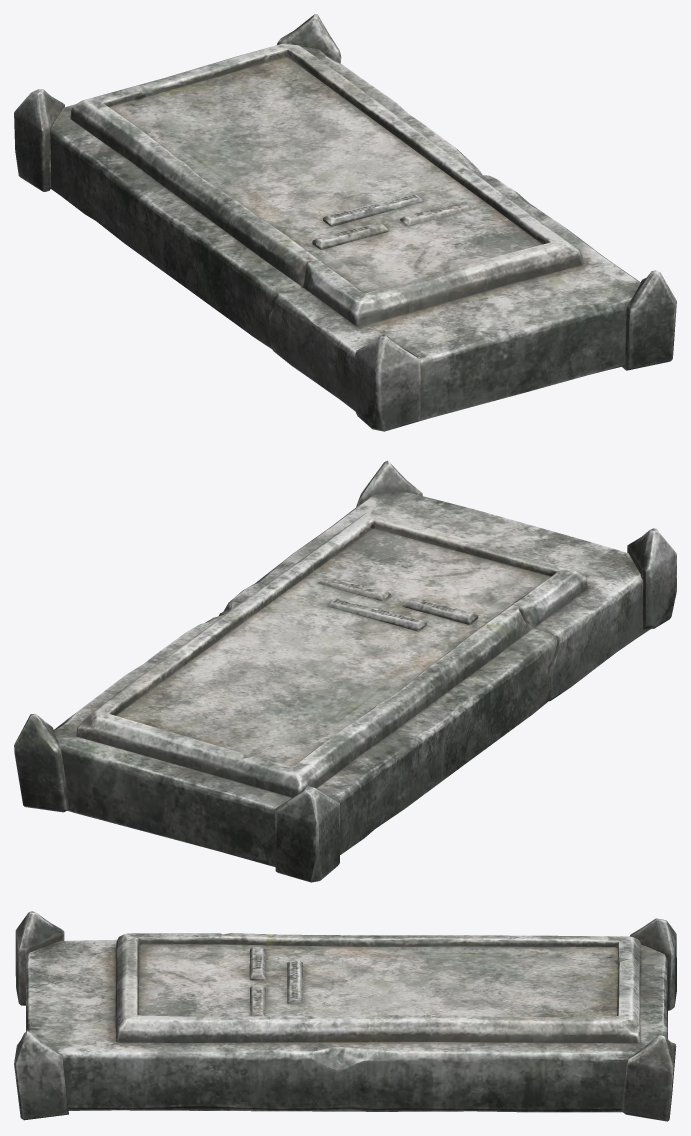
3 views of the same model, one above another, from view 1: azimuth 30°, elevation 25°; view 2: azimuth 150°, elevation 25°; view 3: azimuth 270°, elevation 25° (orthographic). The views are drawn at different scales.
Parts seen in each view (by area): view 1: SM_Human_Gravestone_Base_03_LOD0; view 2: SM_Human_Gravestone_Base_03_LOD0; view 3: SM_Human_Gravestone_Base_03_LOD0.
Boxes of the visible parts, bbox=[...] form: SM_Human_Gravestone_Base_03_LOD0: bbox=[14, 14, 676, 431]; SM_Human_Gravestone_Base_03_LOD0: bbox=[14, 460, 676, 882]; SM_Human_Gravestone_Base_03_LOD0: bbox=[14, 911, 676, 1121].
Size of the model in its own units: 1.76 by 0.5236 by 3.61.
2 materials, 2 textured.
